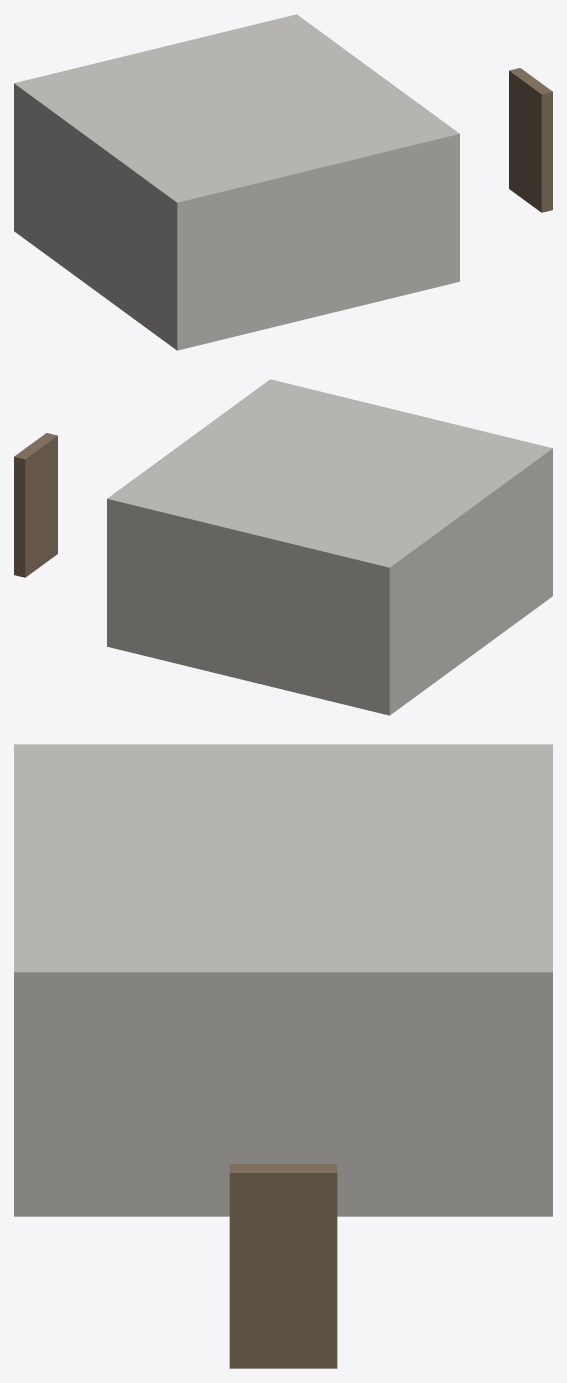
Rendered from building_bunker.glb.
3 renders of one model, top to bottom at view 1: azimuth 30°, elevation 25°; view 2: azimuth 150°, elevation 25°; view 3: azimuth 270°, elevation 25°, orthographic. The views are drawn at different scales.
Visible parts, largest first — view 1: building_bunker; view 2: building_bunker; view 3: building_bunker.
Boxes of the visible parts, box(x1,y1,x2,y2) form: building_bunker: box(14, 14, 552, 350); building_bunker: box(14, 379, 552, 715); building_bunker: box(14, 744, 552, 1368).
Bounding box in the file's own units: 3.9 × 1.38 × 2.5.
